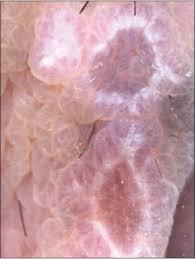annular lichen planus: (71, 8, 185, 124), (77, 154, 164, 257)
